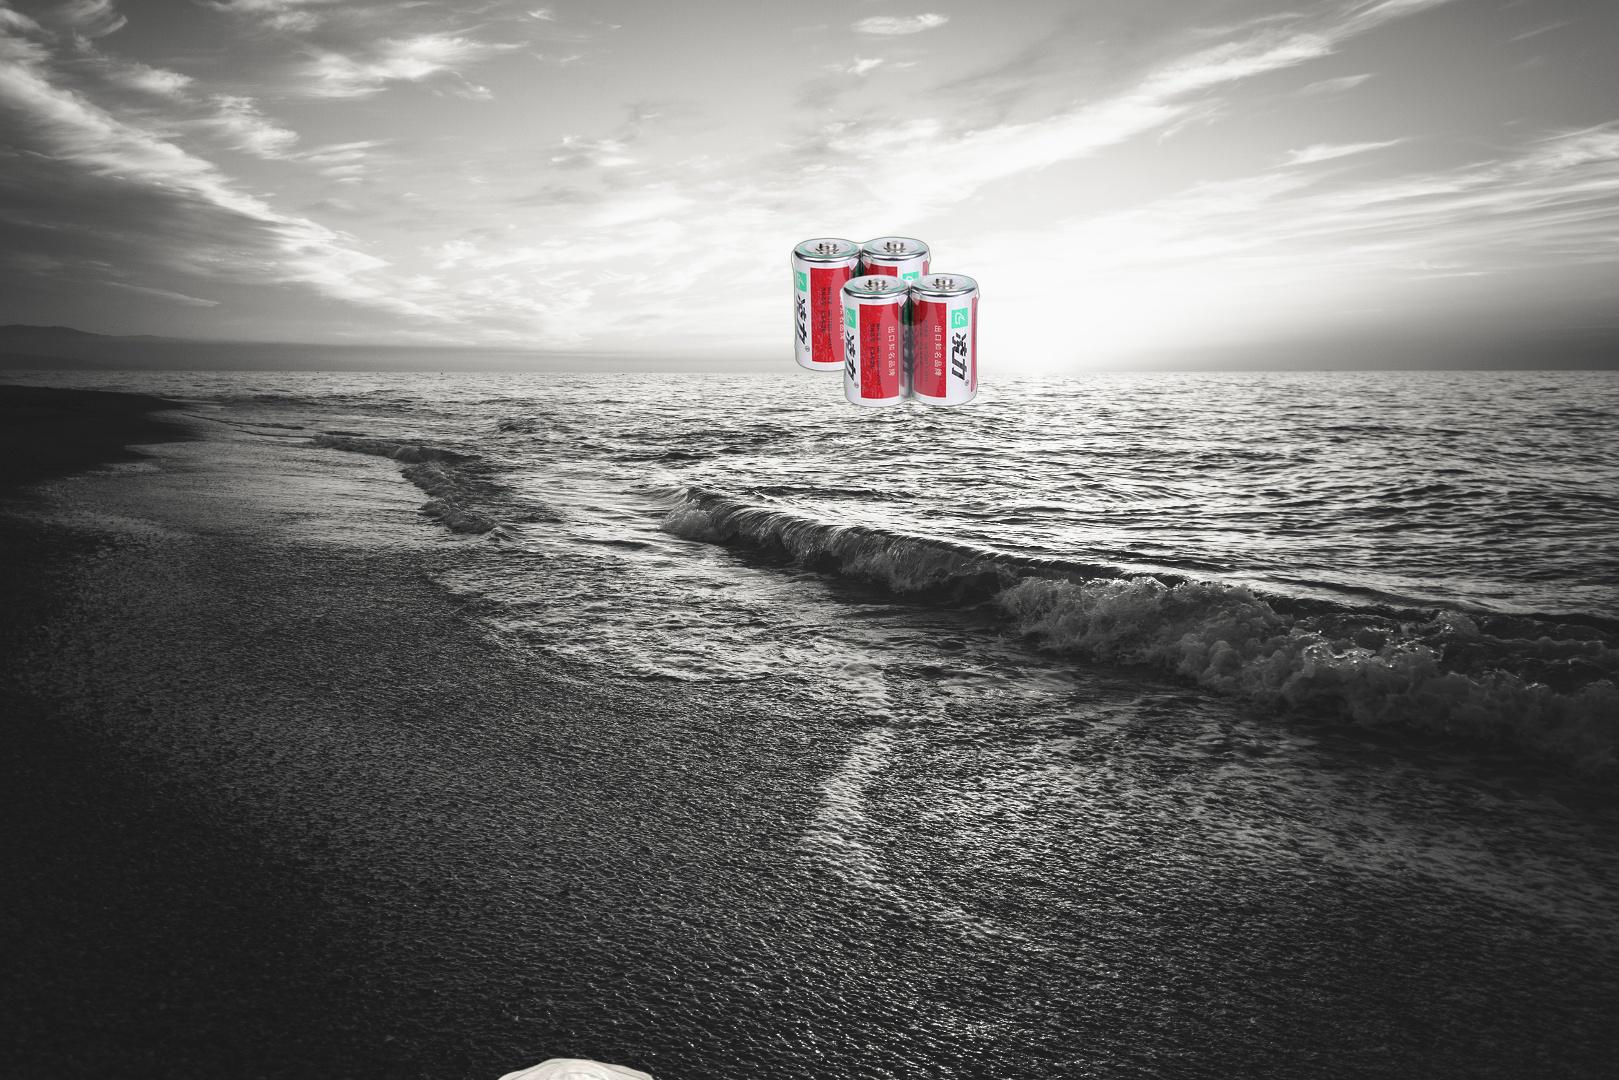battery: (788, 234, 1013, 410)
trash: (474, 1055, 668, 1080)
